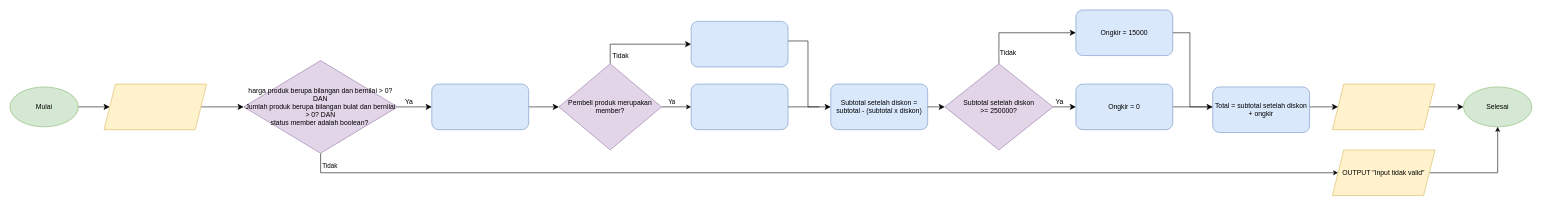
Some shapes in this 1542 by 206 pixel diagram are drawn without their labels. Here are the shapes that lost their labels. From the top down, the centre of each, then its label:
the point at 739,44: Diskon = 10%
the point at 155,107: INPUT harga produk, jumlah produk, status member
the point at 480,107: Subtotal = harga produk x jumlah produk
the point at 739,107: Diskon = 0
the point at 1383,107: OUTPUT total pembayaran
